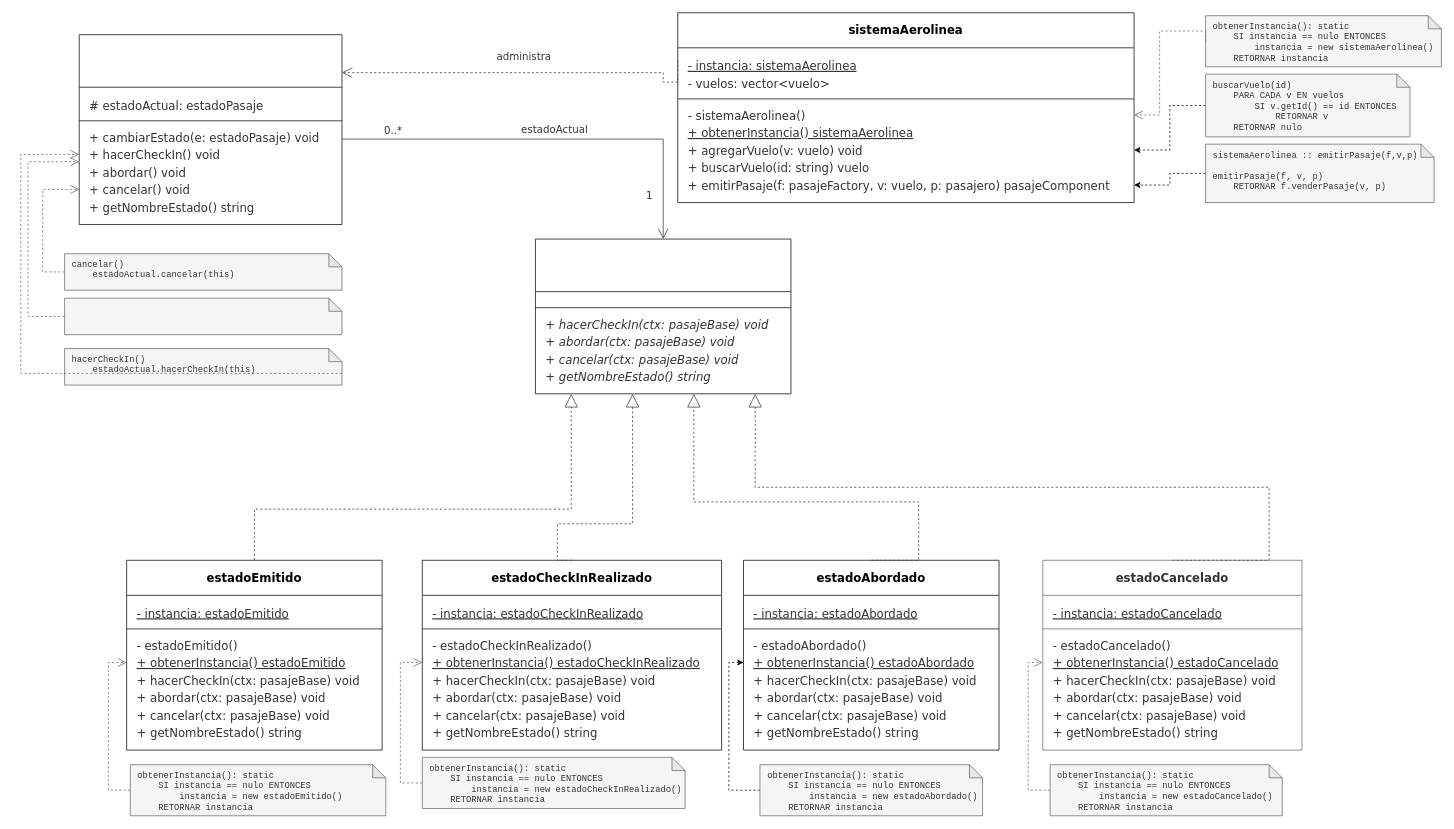
Image size: 1454x829. Some labels were removed from this diagram. Each missing label, with the box of its shape:
abordar() estadoActual.abordar(this): (64, 297, 342, 335)
«abstract» pasajeBase: (78, 34, 342, 224)
«interface» estadoPasaje: (535, 238, 791, 394)
